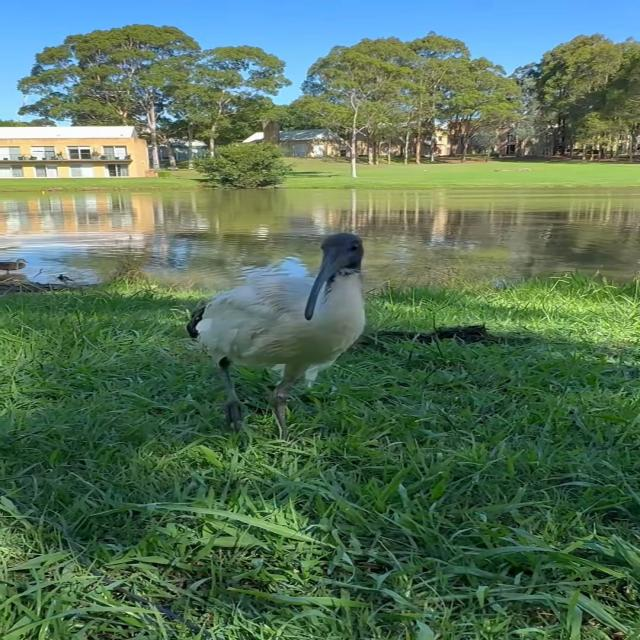Birds-Ibis: (180, 228, 374, 440)
Birds-Other: (0, 253, 29, 280)
